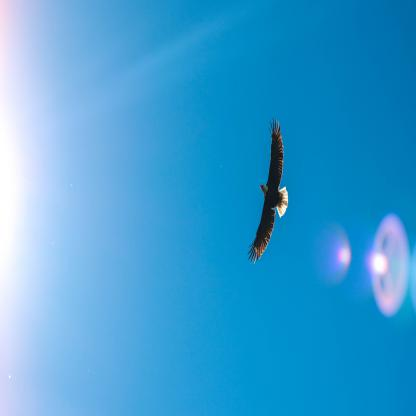bird: (247, 117, 288, 264)
